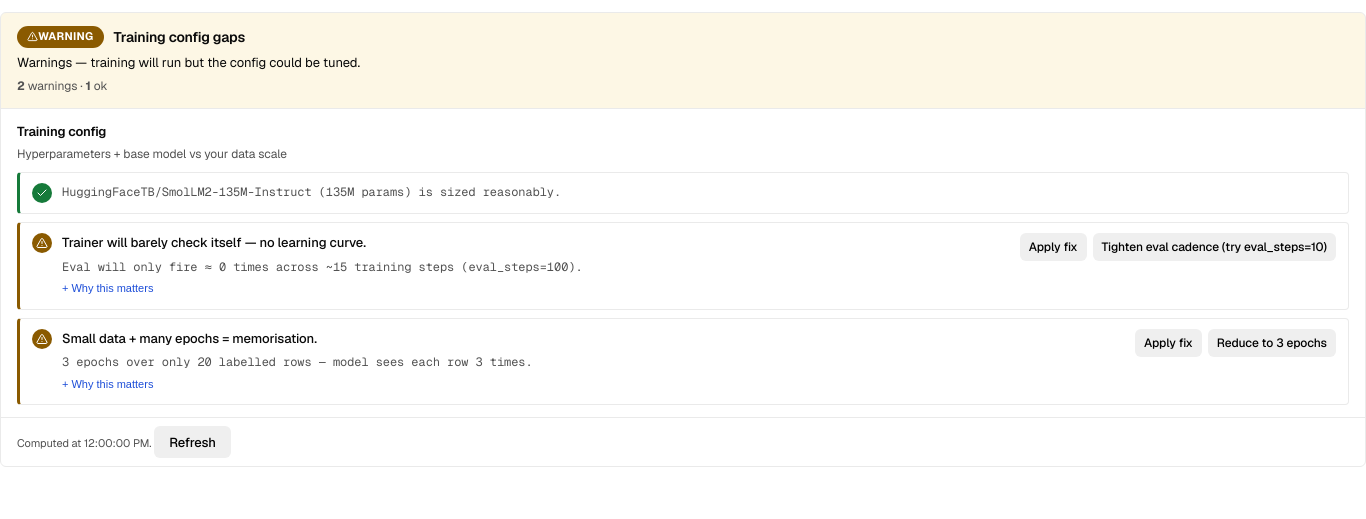
Test: TrainingConfigGapsPanel › toggles the why-this-matters expander for a signal that carries one
Step 1. Click the button with test id "training-config-gaps-why-training_config.eval_cadence_too_sparse" → (108, 288), box [62,282,153,294]
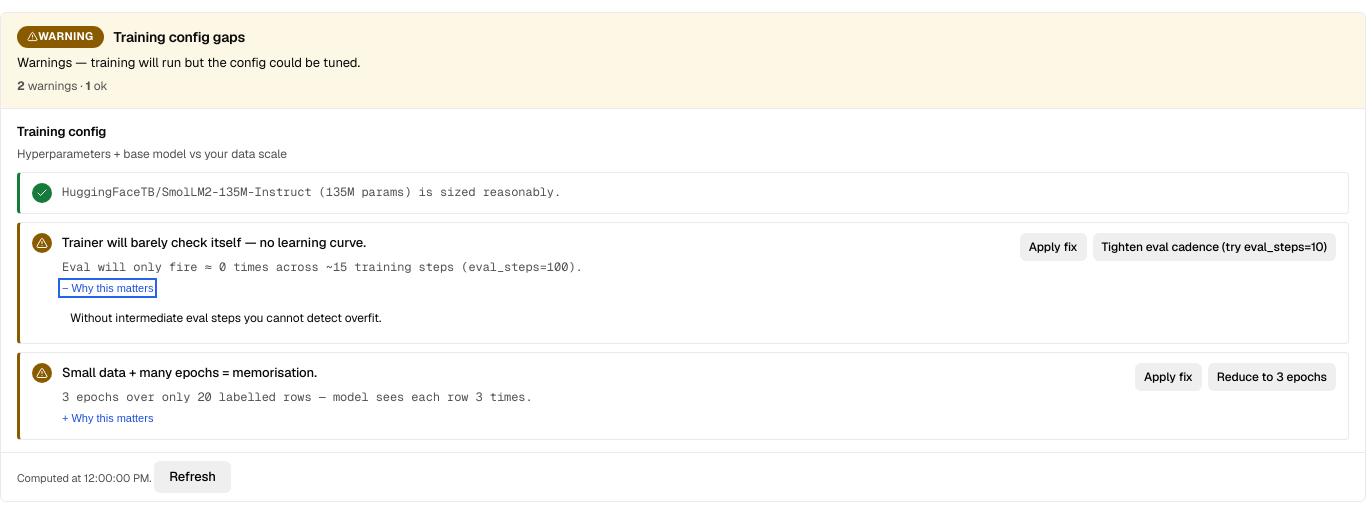
Now the text with test id "training-config-gaps-why-text-training_config.eval_cadence_too_sparse" shows "cannot detect overfit", box [70,310,381,326]
